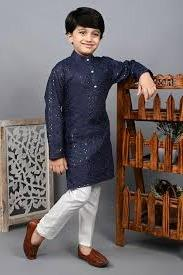Human: (38, 1, 157, 275)
